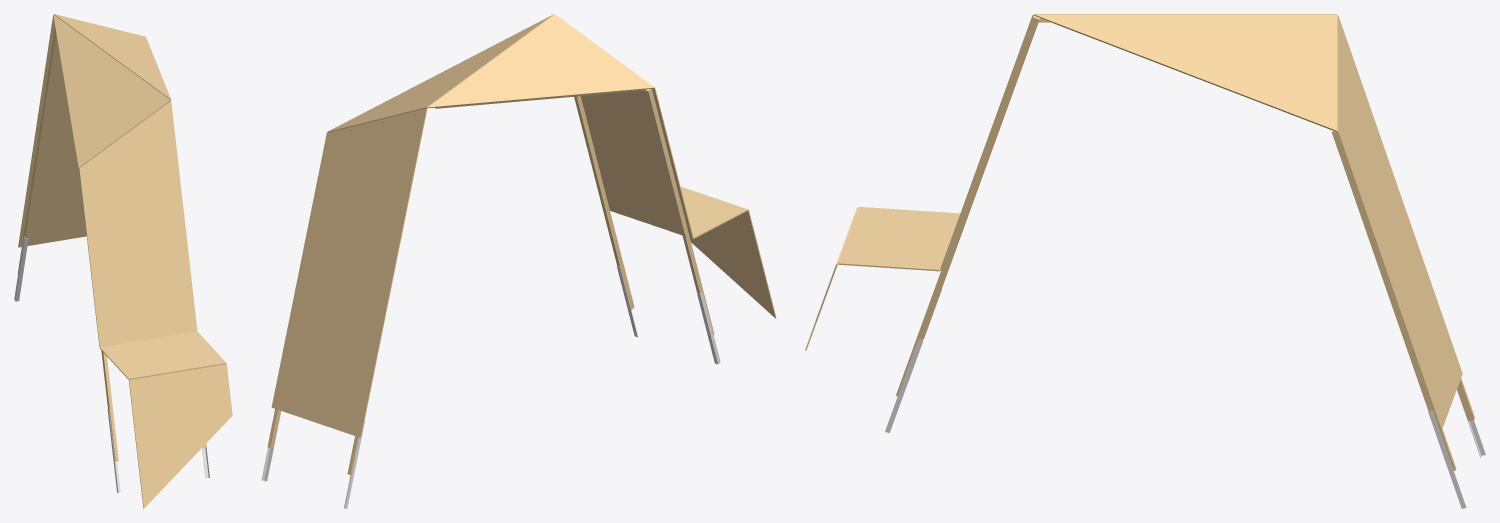
File: kitime.glb
3 views of the same model, side by side, from view 1: azimuth 30°, elevation 25°; view 2: azimuth 150°, elevation 25°; view 3: azimuth 270°, elevation 25° (orthographic). The views are drawn at different scales.
Parts seen in each view (by area): view 1: Mockup2_3D_whole005, Mockup2_3D_whole012, Mockup2_3D_whole011, Mockup2_3D_whole010, Mockup2_3D_whole013, Mockup2_3D_whole004, Mockup2_3D_whole006, Mockup2_3D_whole007, Mockup2_3D_whole015, Mockup2_3D_whole002, Mockup2_3D_whole001; view 2: Mockup2_3D_whole010, Mockup2_3D_whole011, Mockup2_3D_whole005, Mockup2_3D_whole004, Mockup2_3D_whole012, Mockup2_3D_whole006, Mockup2_3D_whole013, Mockup2_3D_whole015, Mockup2_3D_whole014; view 3: Mockup2_3D_whole006, Mockup2_3D_whole010, Mockup2_3D_whole013, Mockup2_3D_whole004, Mockup2_3D_whole014, Mockup2_3D_whole008.
Boxes of the visible parts, bbox=[...] form: Mockup2_3D_whole005: bbox=[79, 101, 197, 347]; Mockup2_3D_whole012: bbox=[128, 364, 232, 508]; Mockup2_3D_whole011: bbox=[53, 14, 170, 167]; Mockup2_3D_whole010: bbox=[27, 15, 80, 188]; Mockup2_3D_whole013: bbox=[99, 331, 226, 379]; Mockup2_3D_whole004: bbox=[18, 180, 86, 247]; Mockup2_3D_whole006: bbox=[54, 14, 171, 100]; Mockup2_3D_whole007: bbox=[17, 26, 57, 274]; Mockup2_3D_whole015: bbox=[101, 350, 118, 461]; Mockup2_3D_whole002: bbox=[14, 236, 28, 301]; Mockup2_3D_whole001: bbox=[107, 409, 120, 492]; Mockup2_3D_whole010: bbox=[288, 108, 427, 353]; Mockup2_3D_whole011: bbox=[427, 14, 654, 108]; Mockup2_3D_whole005: bbox=[581, 88, 693, 238]; Mockup2_3D_whole004: bbox=[271, 324, 377, 437]; Mockup2_3D_whole012: bbox=[690, 209, 776, 318]; Mockup2_3D_whole006: bbox=[327, 14, 554, 132]; Mockup2_3D_whole013: bbox=[617, 186, 748, 239]; Mockup2_3D_whole015: bbox=[645, 89, 714, 334]; Mockup2_3D_whole014: bbox=[574, 96, 634, 309]; Mockup2_3D_whole006: bbox=[1034, 14, 1336, 131]; Mockup2_3D_whole010: bbox=[1337, 15, 1430, 338]; Mockup2_3D_whole013: bbox=[837, 206, 960, 271]; Mockup2_3D_whole004: bbox=[1409, 283, 1462, 430]; Mockup2_3D_whole014: bbox=[896, 15, 1039, 396]; Mockup2_3D_whole008: bbox=[1331, 130, 1456, 470].
Bounding box in the file's own units: 1.96 × 2.85 × 4.09.
